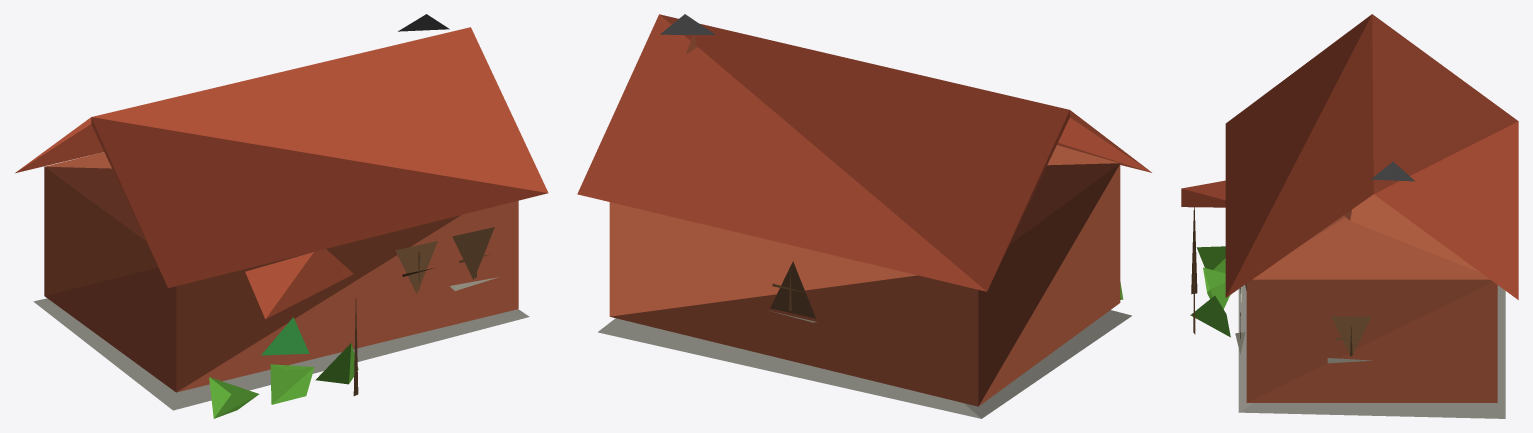
The model's file is hobbit_cottage_2_lod2.glb.
3 views of the same model, side by side, from view 1: azimuth 30°, elevation 25°; view 2: azimuth 150°, elevation 25°; view 3: azimuth 270°, elevation 25° (orthographic). The views are drawn at different scales.
Parts seen in each view (by area): view 1: hobbit_cottage_2_lod2; view 2: hobbit_cottage_2_lod2; view 3: hobbit_cottage_2_lod2.
Part boxes in pixels (box(x1,y1,x2,y2)): hobbit_cottage_2_lod2: box(15, 14, 548, 418); hobbit_cottage_2_lod2: box(577, 14, 1151, 418); hobbit_cottage_2_lod2: box(1181, 14, 1518, 418).
Size of the model in its own units: 8 by 5.29 by 6.45.
